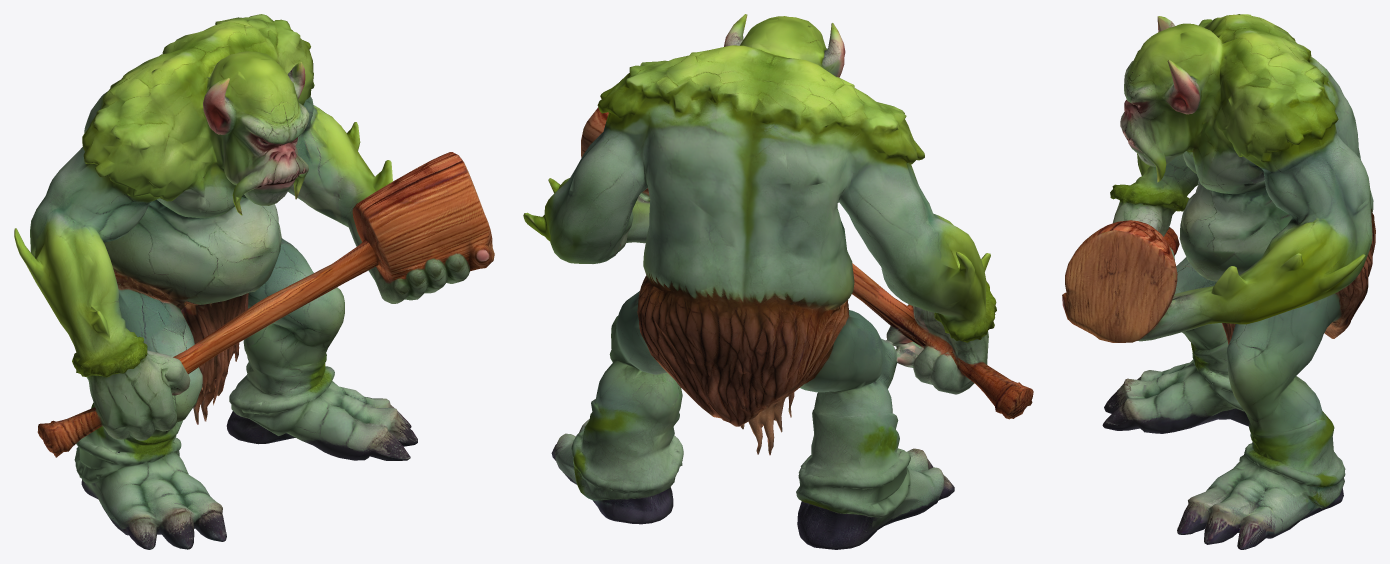
File: stone_behemoth.glb
The picture shows the model from 3 angles, left to right: view 1: azimuth 30°, elevation 25°; view 2: azimuth 150°, elevation 25°; view 3: azimuth 270°, elevation 25°; orthographic projection. The views are drawn at different scales.
Bounding box in the file's own units: 1.91 × 1.87 × 1.23.
Materials: 1 (1 with a texture image).
